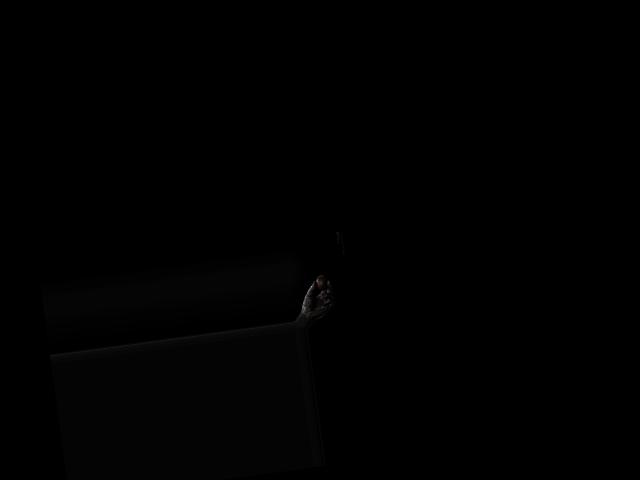egg: (315, 274, 328, 291)
